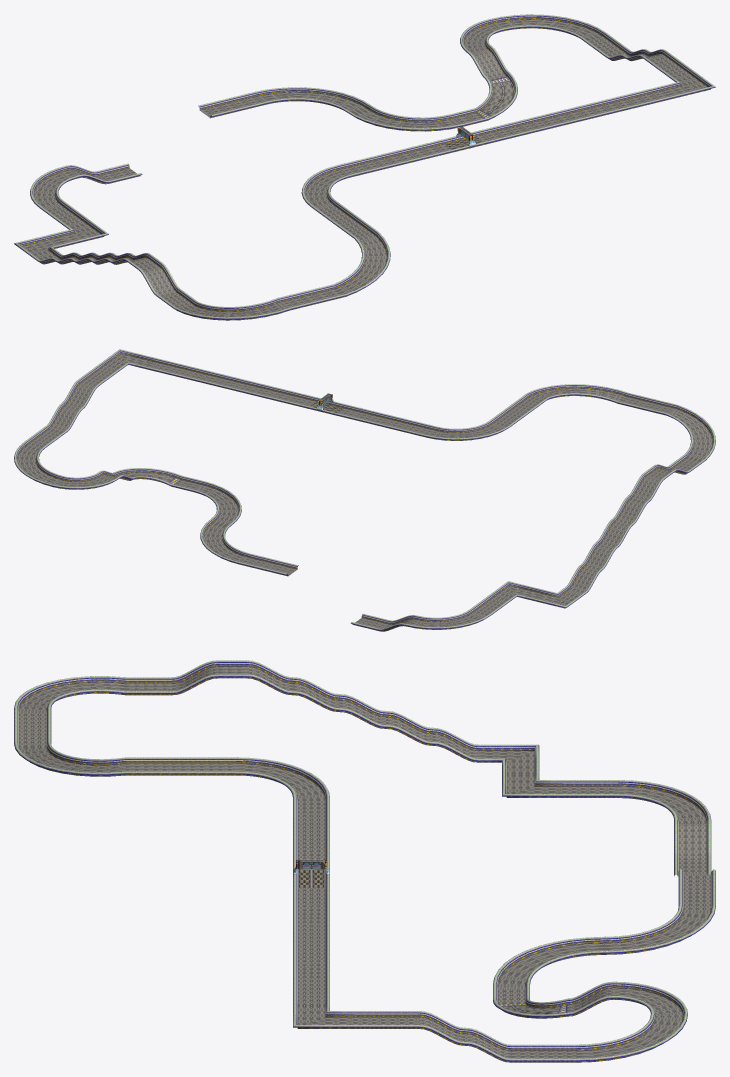
3 renders of one model, top to bottom at view 1: azimuth 30°, elevation 25°; view 2: azimuth 150°, elevation 25°; view 3: azimuth 270°, elevation 25°, orthographic. The views are drawn at different scales.
Visible parts, largest first — view 1: Object_Road, Object_Wall_Top, Object_Wall; view 2: Object_Road, Object_Wall_Top, Object_Wall; view 3: Object_Road, Object_Wall_Top, Object_Wall.
Boxes of the visible parts, bbox=[...] form: Object_Road: bbox=[22, 19, 707, 317]; Object_Wall_Top: bbox=[14, 14, 715, 319]; Object_Wall: bbox=[19, 16, 710, 320]; Object_Road: bbox=[17, 354, 712, 628]; Object_Wall_Top: bbox=[14, 349, 715, 630]; Object_Wall: bbox=[16, 351, 713, 631]; Object_Road: bbox=[18, 666, 711, 1058]; Object_Wall_Top: bbox=[14, 660, 715, 1061]; Object_Wall: bbox=[17, 663, 712, 1062].
Bounding box in the file's own units: 97500 × 16000 × 75500.
Materials: 12 (12 with a texture image).
